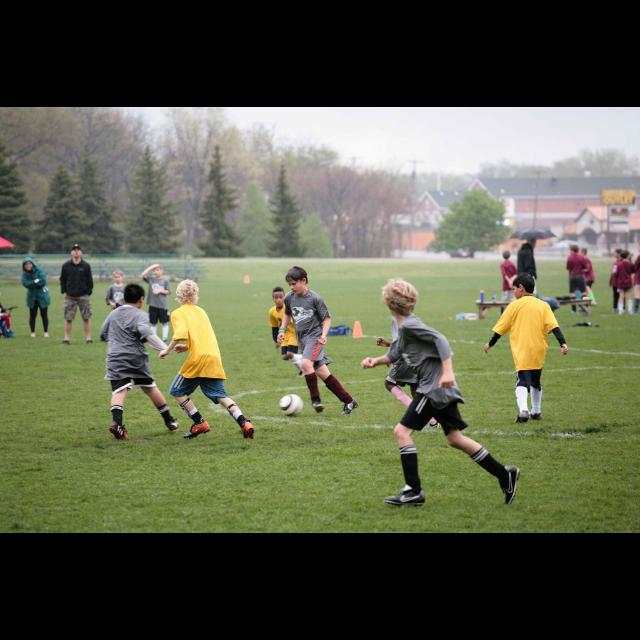Football: (280, 394, 302, 416)
